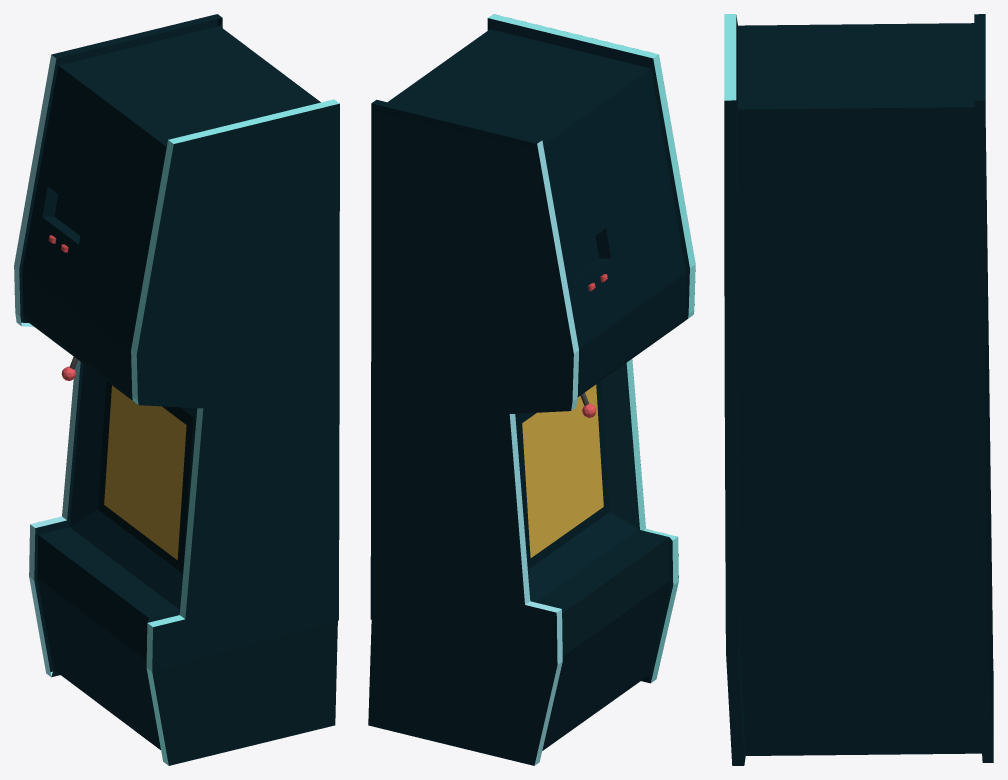
File: Aecade_game_Machine.fbx
3 renders of one model, left to right at view 1: azimuth 30°, elevation 25°; view 2: azimuth 150°, elevation 25°; view 3: azimuth 270°, elevation 25°, orthographic. The views are drawn at different scales.
Visible parts, largest first — view 1: Plane.015; view 2: Plane.015; view 3: Plane.015.
Part boxes in pixels (x1,y1,x2,y2): Plane.015: (14, 14, 339, 765); Plane.015: (368, 14, 695, 765); Plane.015: (724, 14, 993, 765).
Size of the model in its own units: 173 by 508 by 186.
